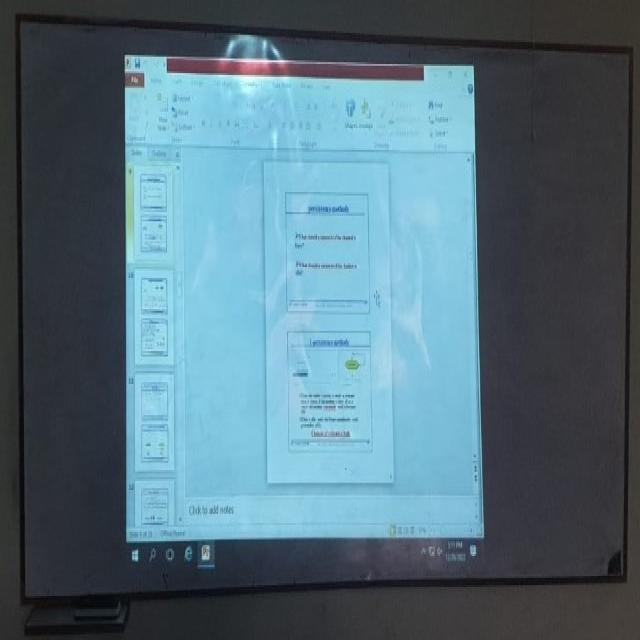Slide: (123, 53, 485, 570)
White-board: (18, 17, 630, 594)
